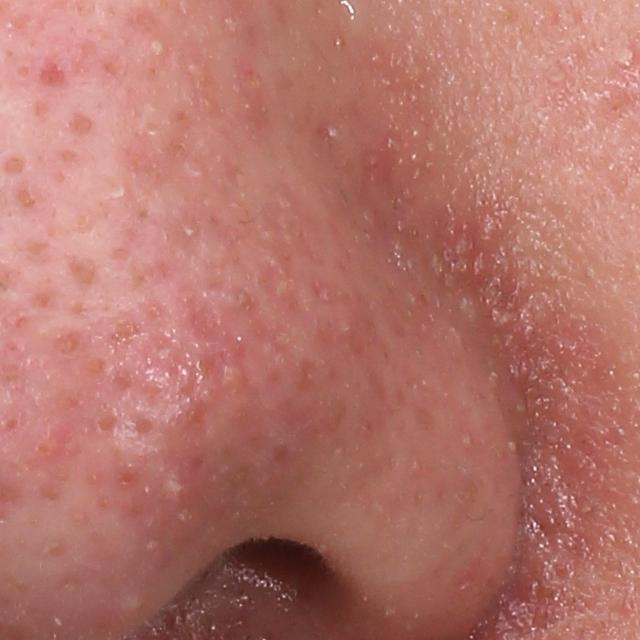pustule: (148, 34, 167, 57)
